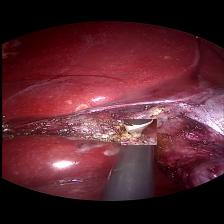Hook: (120, 119, 156, 145)
